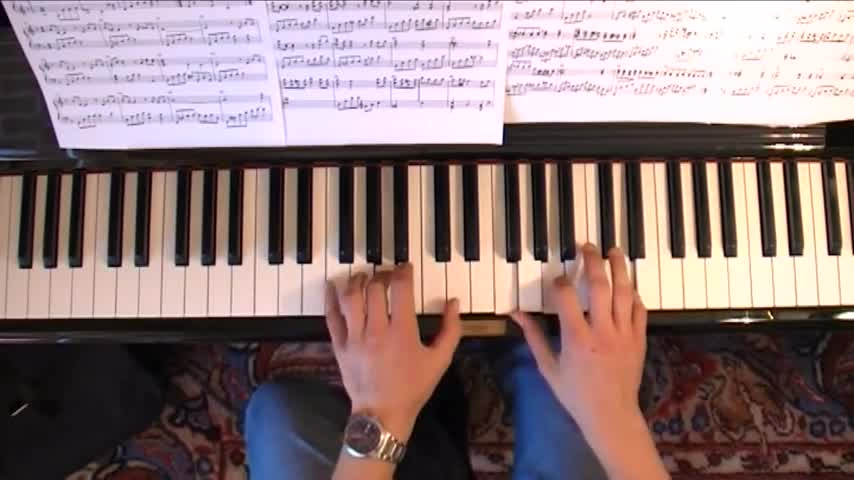left: (323, 263, 460, 400)
right: (511, 239, 648, 403)
